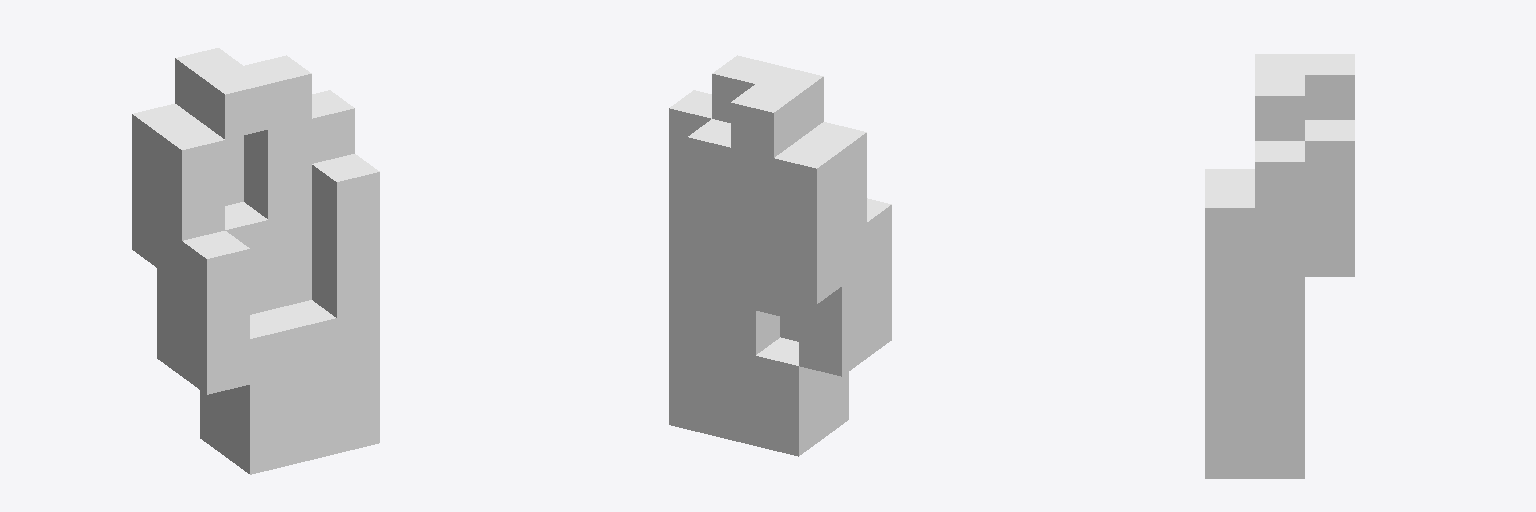
The model's file is Centered_Corgi_Ear_Right.obj.
3 renders of one model, left to right at view 1: azimuth 30°, elevation 25°; view 2: azimuth 150°, elevation 25°; view 3: azimuth 270°, elevation 25°, orthographic.
Visible parts, largest first — view 1: Corgi_right_ear; view 2: Corgi_right_ear; view 3: Corgi_right_ear.
Part boxes in pixels (bbox=[...]): Corgi_right_ear: bbox=[132, 48, 379, 474]; Corgi_right_ear: bbox=[669, 55, 891, 456]; Corgi_right_ear: bbox=[1205, 54, 1354, 478].
Bounding box in the file's own units: 0.4 × 0.8 × 0.3.